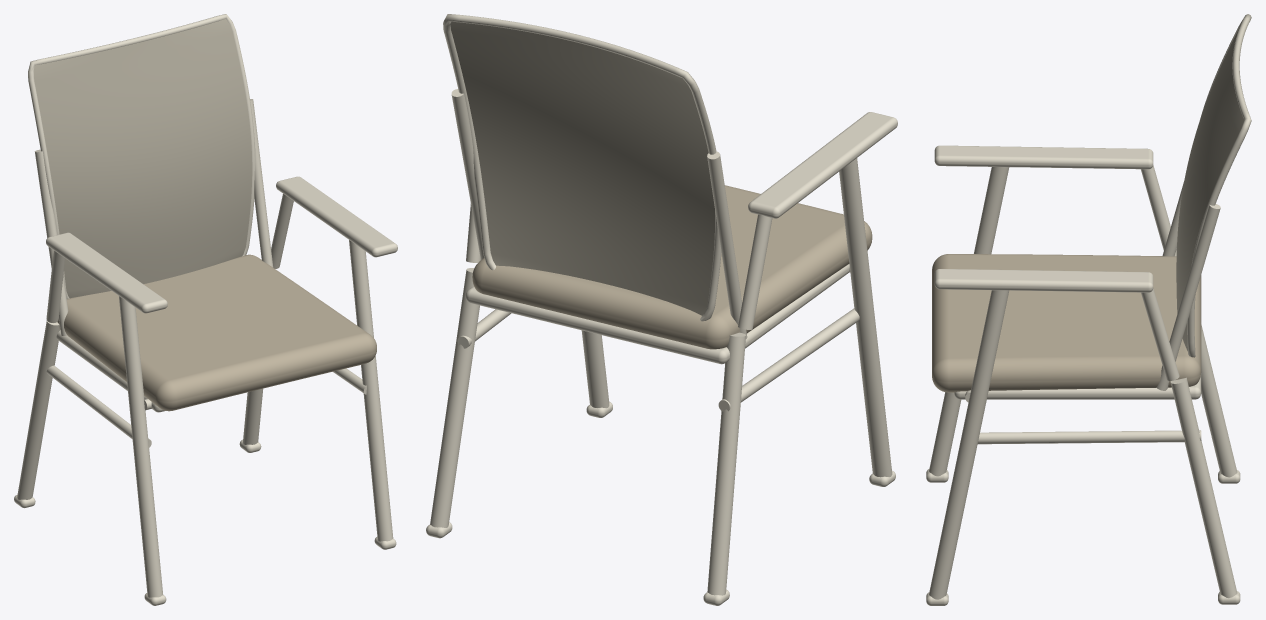
File: SM_IvoryConferenceChair.fbx
3 renders of one model, left to right at view 1: azimuth 30°, elevation 25°; view 2: azimuth 150°, elevation 25°; view 3: azimuth 270°, elevation 25°, orthographic. The views are drawn at different scales.
Visible parts, largest first — view 1: SM_IvoryConferenceChair; view 2: SM_IvoryConferenceChair; view 3: SM_IvoryConferenceChair.
Boxes of the visible parts, x1,y1,x2,y2 form: SM_IvoryConferenceChair: [14, 14, 397, 605]; SM_IvoryConferenceChair: [426, 14, 897, 605]; SM_IvoryConferenceChair: [926, 14, 1251, 605].
Size of what is drawn, in the model's own units: 57.8 by 58.02 by 94.3.
